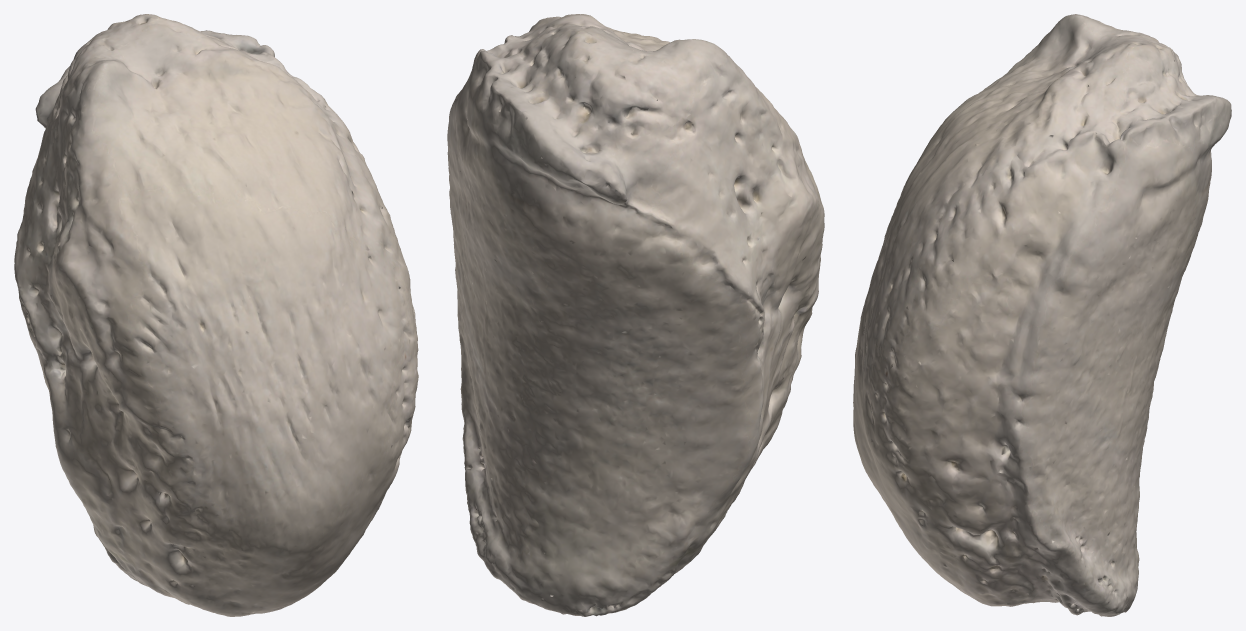
3 renders of one model, left to right at view 1: azimuth 30°, elevation 25°; view 2: azimuth 150°, elevation 25°; view 3: azimuth 270°, elevation 25°, orthographic. The views are drawn at different scales.
Parts seen in each view (by area): view 1: Patella_Hund.001; view 2: Patella_Hund.001; view 3: Patella_Hund.001.
Part boxes in pixels (bbox=[...]): Patella_Hund.001: bbox=[14, 14, 418, 616]; Patella_Hund.001: bbox=[447, 14, 824, 616]; Patella_Hund.001: bbox=[853, 14, 1231, 616].
Bounding box in the file's own units: 1916 × 3119 × 1958.
1 material, 1 textured.
